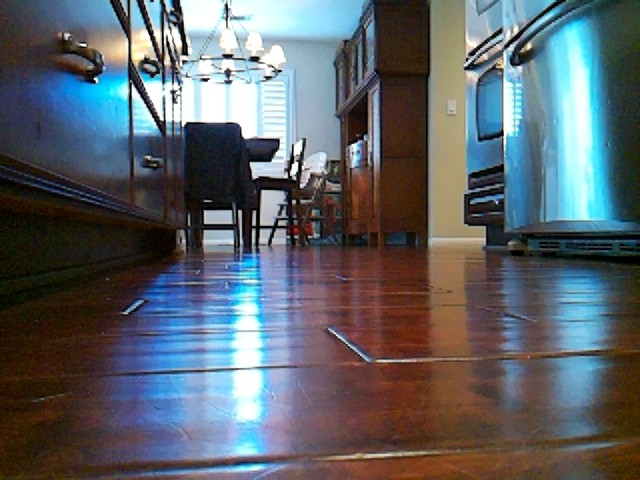Drivable Area: (2, 312, 640, 480), (174, 262, 559, 316), (194, 251, 481, 270), (558, 269, 640, 318), (128, 280, 184, 318)
Obstacle: (0, 0, 191, 231), (335, 0, 486, 246), (506, 0, 640, 256), (462, 0, 512, 225)
